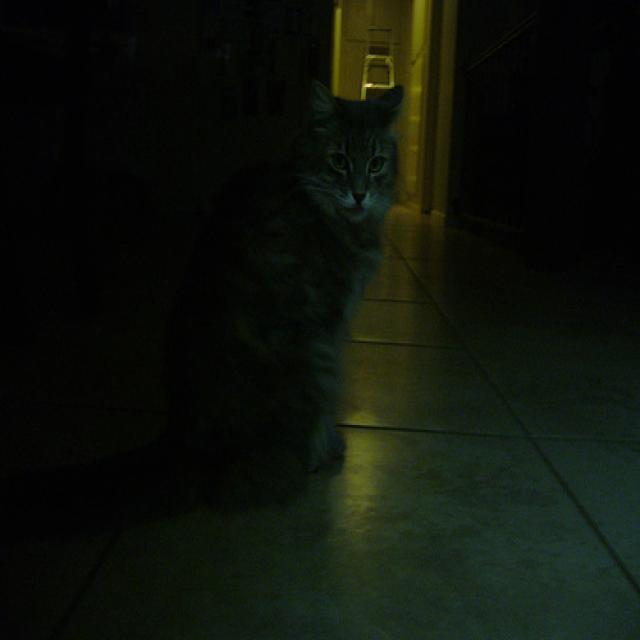Cat: (166, 66, 410, 534)
